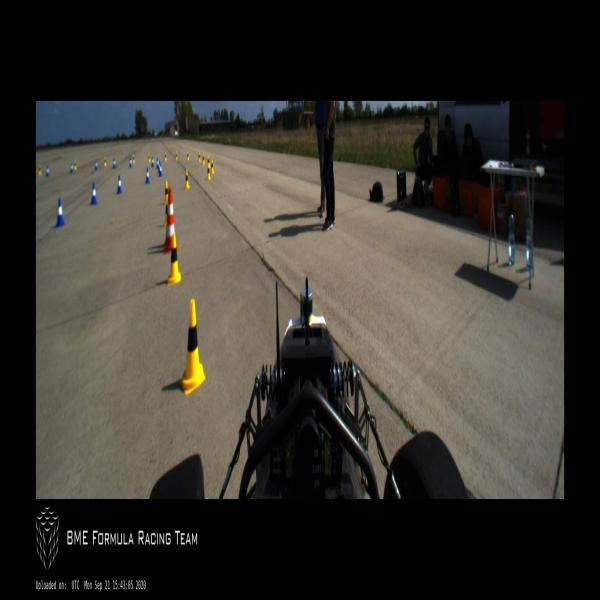blue_cone: (56, 199, 65, 226), (91, 183, 98, 204), (117, 176, 122, 194), (145, 168, 150, 183), (112, 157, 116, 169), (159, 163, 162, 176), (70, 162, 73, 173), (129, 156, 132, 167), (151, 156, 154, 167), (46, 166, 49, 176), (95, 159, 98, 169), (158, 160, 160, 172), (157, 157, 158, 169)
large_orange_cone: (164, 188, 177, 253)
yellow_cone: (180, 299, 205, 397), (167, 234, 181, 285), (163, 193, 169, 228), (185, 169, 190, 189), (164, 181, 168, 204), (207, 162, 211, 181), (210, 159, 214, 174), (38, 164, 42, 176), (207, 155, 210, 168), (74, 160, 77, 171), (103, 157, 106, 167), (148, 153, 151, 163), (202, 153, 204, 164), (187, 151, 189, 161), (164, 152, 166, 161), (132, 154, 134, 163), (176, 152, 178, 160), (199, 151, 200, 163)
